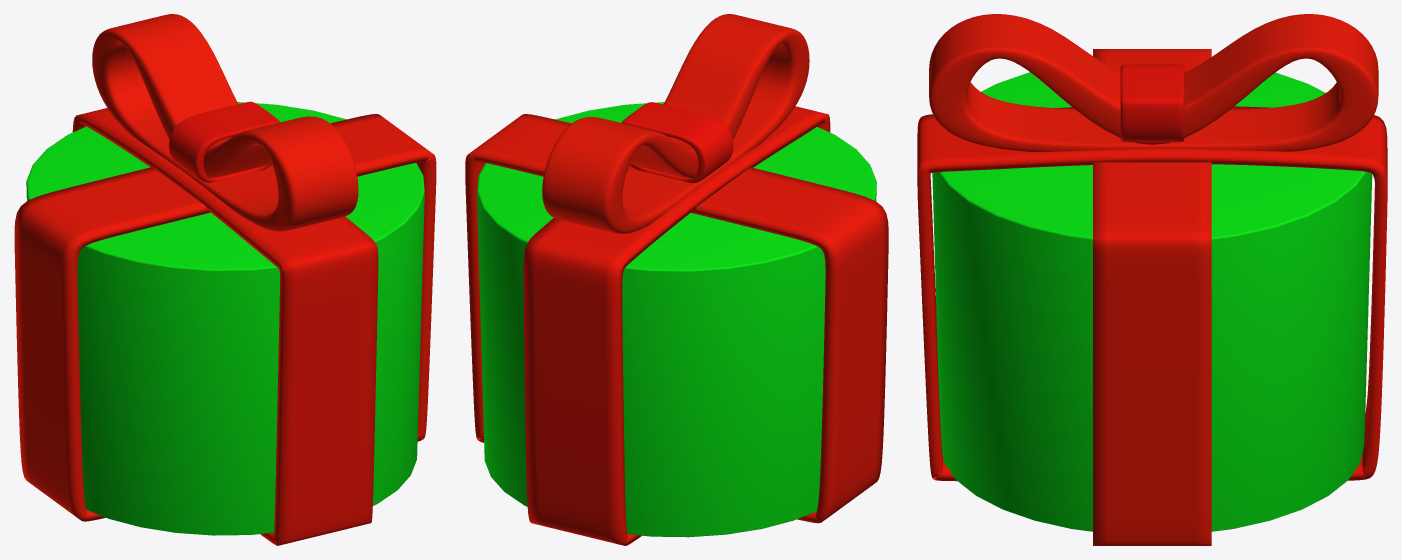
Rendered from giftCircular.fbx.
3 views of the same model, side by side, from view 1: azimuth 30°, elevation 25°; view 2: azimuth 150°, elevation 25°; view 3: azimuth 270°, elevation 25° (orthographic). The views are drawn at different scales.
Parts seen in each view (by area): view 1: Cylinder, Cube.002, Cube.003, Cube.004, Cube.005; view 2: Cylinder, Cube.002, Cube.003, Cube.004, Cube.005; view 3: Cylinder, Cube.003, Cube.004, Cube.002, Cube.005.
Boxes of the visible parts, bbox=[...] form: Cylinder: bbox=[26, 102, 424, 535]; Cube.002: bbox=[72, 108, 378, 545]; Cube.003: bbox=[14, 114, 436, 521]; Cube.004: bbox=[92, 14, 358, 231]; Cube.005: bbox=[169, 101, 279, 182]; Cylinder: bbox=[477, 102, 876, 537]; Cube.002: bbox=[523, 106, 830, 545]; Cube.003: bbox=[465, 114, 888, 523]; Cube.004: bbox=[542, 14, 809, 233]; Cube.005: bbox=[621, 102, 733, 183]; Cylinder: bbox=[932, 72, 1372, 531]; Cube.003: bbox=[1093, 49, 1211, 545]; Cube.004: bbox=[929, 14, 1378, 152]; Cube.002: bbox=[917, 106, 1387, 481]; Cube.005: bbox=[1120, 64, 1184, 142].
Bounding box in the file's own units: 237 × 237 × 237.
